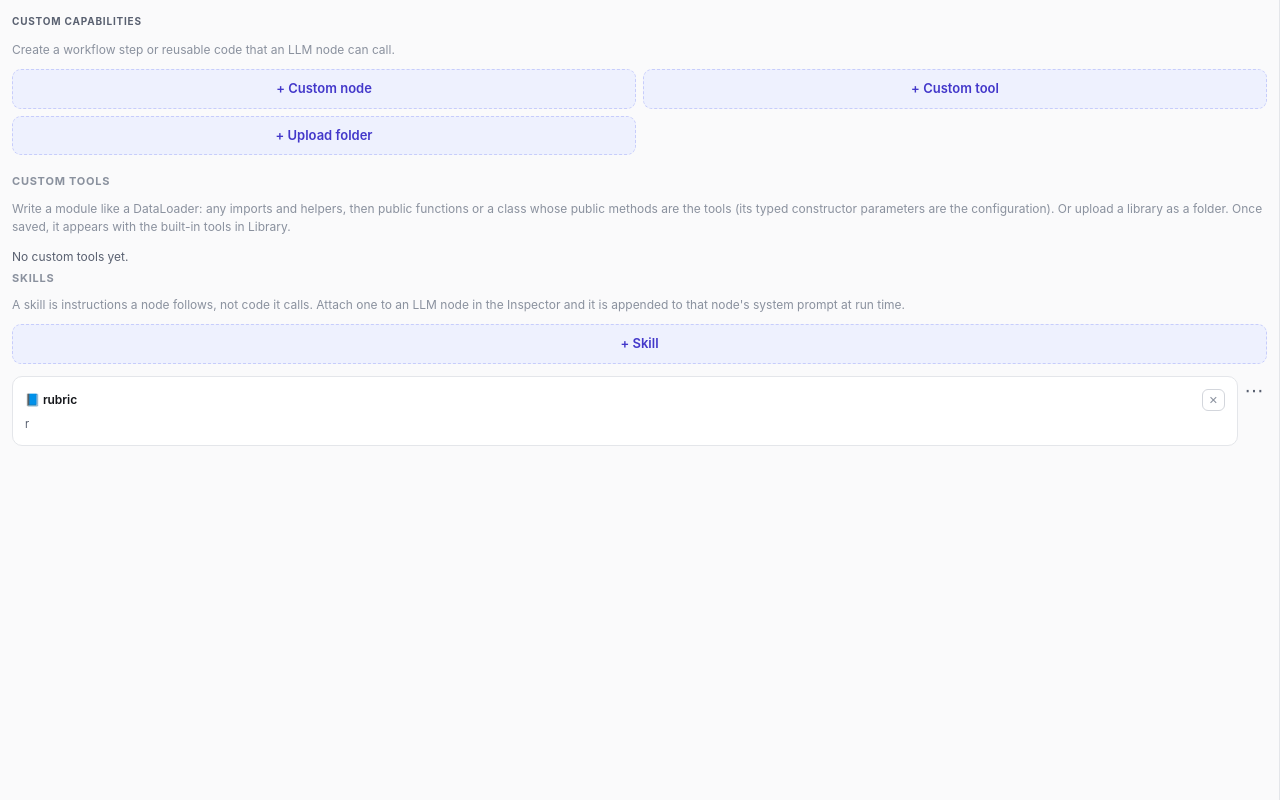
Test: deleting a skill › a failed delete is shown and the skill stays listed
The image size is (1280, 800).
Click the button titled "Delete skill": (1213, 400) [1202, 388, 1225, 411]
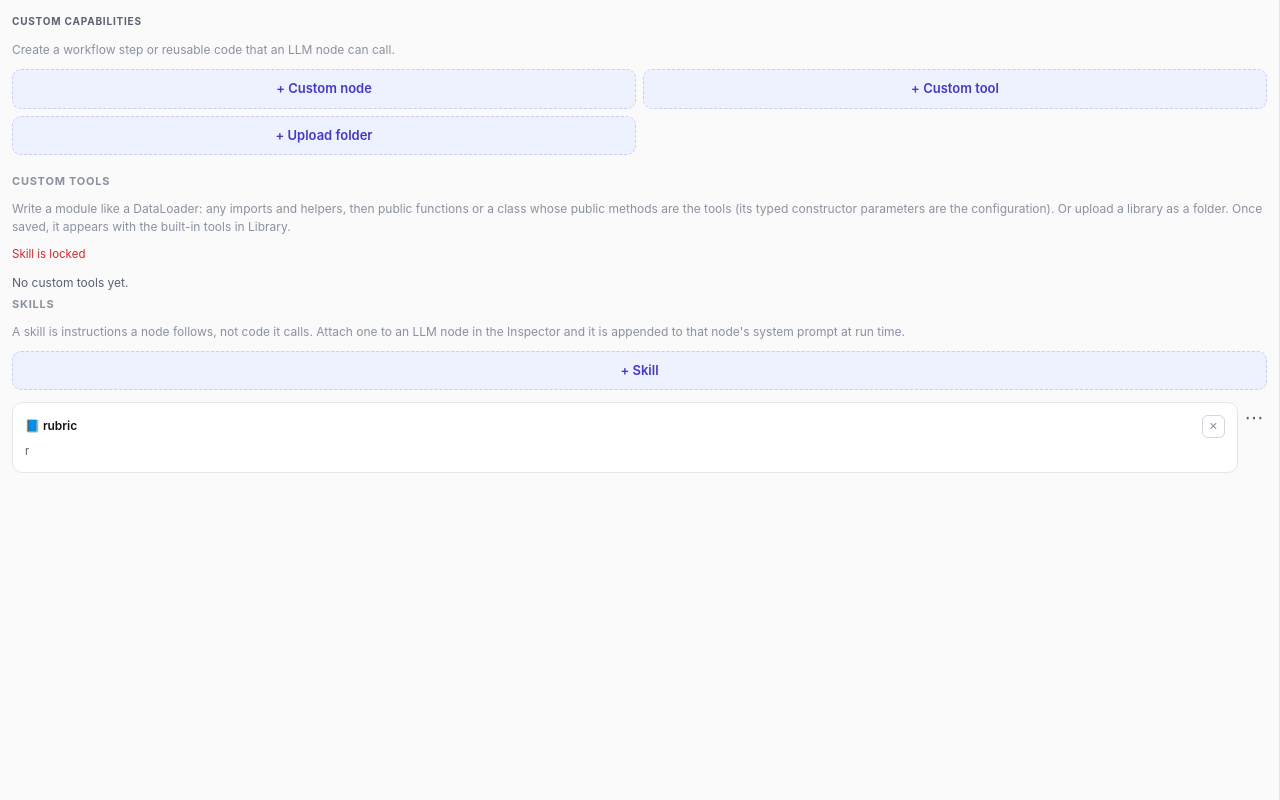
Expected: the text "📘 rubric ✕" is shown, [25, 415, 1225, 438]
Result: the text "Skill is locked" is shown at [12, 246, 85, 260]
